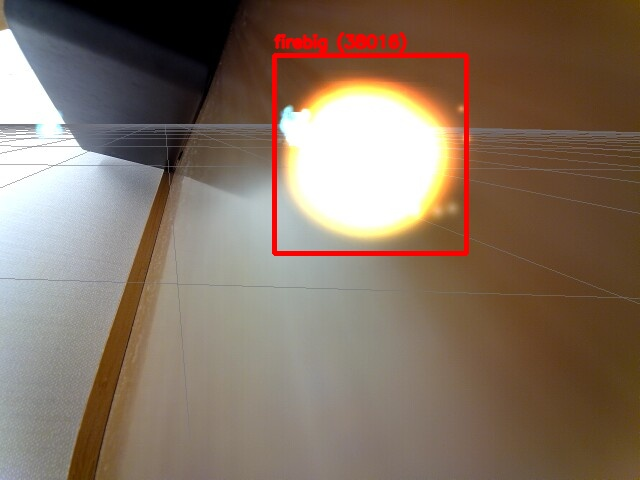firebig: (274, 55, 466, 253)
